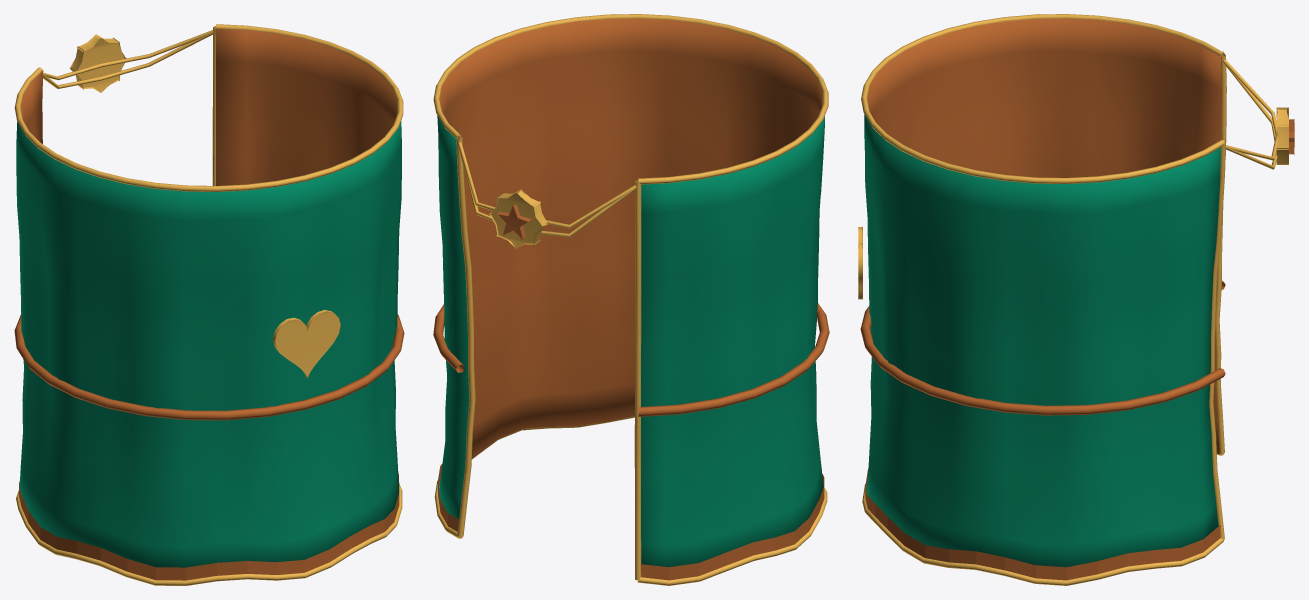
File: velvet-court-bishop.glb
The picture shows the model from 3 angles, left to right: view 1: azimuth 30°, elevation 25°; view 2: azimuth 150°, elevation 25°; view 3: azimuth 270°, elevation 25°; orthographic projection.
Visible parts, largest first — view 1: tailored_cloth, broad_embroidered_hem, court_sash, tailored_gold_binding, back_heraldry, tailored_gold_binding.001, brooch_gold, clasp_chain, clasp_chain.001, tailored_gold_binding.002; view 2: tailored_cloth, tailored_gold_binding, court_sash, broad_embroidered_hem, tailored_gold_binding.002, tailored_gold_binding.003, tailored_gold_binding.001, brooch_gold, clasp_chain, clasp_chain.001, brooch_jewel; view 3: tailored_cloth, broad_embroidered_hem, tailored_gold_binding, court_sash, tailored_gold_binding.001, tailored_gold_binding.002, tailored_gold_binding.003, brooch_gold, clasp_chain.
Boxes of the visible parts, x1,y1,x2,y2 form: tailored_cloth: (16, 28, 401, 567); broad_embroidered_hem: (19, 474, 399, 580); court_sash: (14, 314, 404, 420); tailored_gold_binding: (14, 24, 403, 191); back_heraldry: (273, 310, 340, 378); tailored_gold_binding.001: (16, 484, 402, 585); brooch_gold: (69, 34, 126, 92); clasp_chain: (43, 30, 213, 80); clasp_chain.001: (43, 32, 213, 88); tailored_gold_binding.002: (212, 26, 215, 185); tailored_cloth: (437, 18, 824, 567); tailored_gold_binding: (433, 14, 828, 184); court_sash: (433, 264, 829, 416); broad_embroidered_hem: (438, 464, 824, 580); tailored_gold_binding.002: (456, 136, 475, 537); tailored_gold_binding.003: (634, 180, 641, 580); tailored_gold_binding.001: (434, 416, 827, 585); brooch_gold: (489, 189, 547, 248); clasp_chain: (458, 142, 636, 228); clasp_chain.001: (458, 147, 636, 237); brooch_jewel: (497, 204, 531, 239); tailored_cloth: (864, 18, 1222, 567); broad_embroidered_hem: (865, 469, 1220, 580); tailored_gold_binding: (861, 14, 1225, 183); court_sash: (860, 281, 1225, 415); tailored_gold_binding.001: (862, 453, 1224, 585); tailored_gold_binding.002: (1209, 142, 1225, 539); tailored_gold_binding.003: (1215, 54, 1226, 454); brooch_gold: (1276, 107, 1288, 164); clasp_chain: (1223, 59, 1277, 160).
Size of the model in its own units: 0.4816 by 0.5633 by 0.5323.
